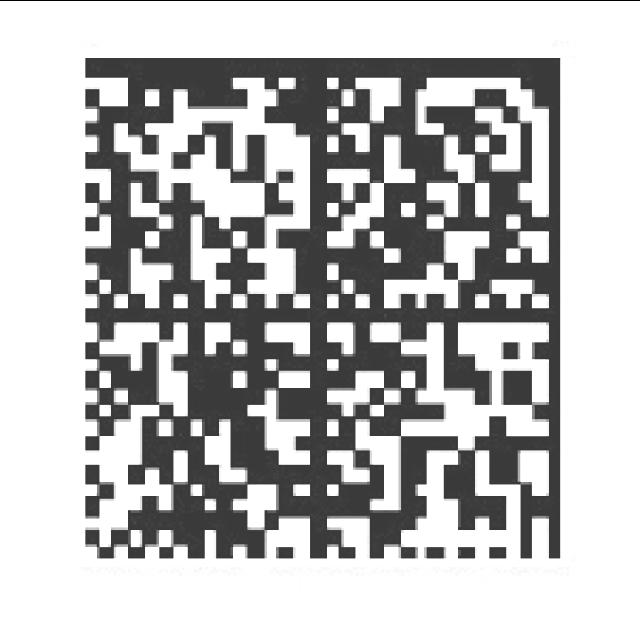DataMatrix: (71, 46, 572, 566)
